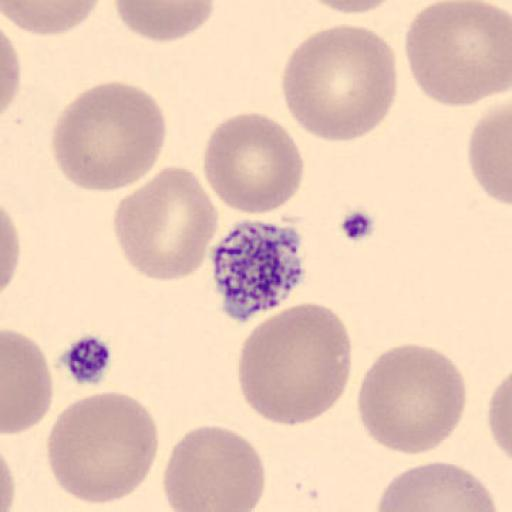Platelet: (208, 219, 310, 323), (56, 332, 115, 387)
RBC: (236, 300, 353, 428), (280, 23, 400, 143), (49, 79, 169, 193), (45, 390, 160, 506), (111, 164, 219, 283), (356, 342, 467, 456), (402, 0, 512, 109), (203, 112, 305, 218), (162, 424, 268, 511), (374, 460, 499, 512), (1, 327, 54, 436), (468, 99, 512, 207), (112, 0, 214, 42), (2, 0, 103, 37), (486, 370, 512, 464), (0, 25, 21, 121), (0, 200, 21, 296), (307, 0, 400, 17), (0, 451, 17, 512)
